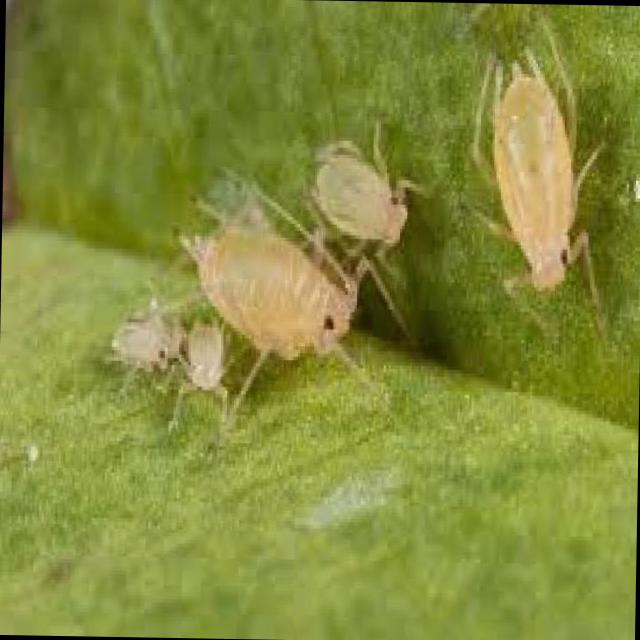aphid: (452, 32, 624, 322), (182, 197, 372, 365), (294, 134, 436, 267)
